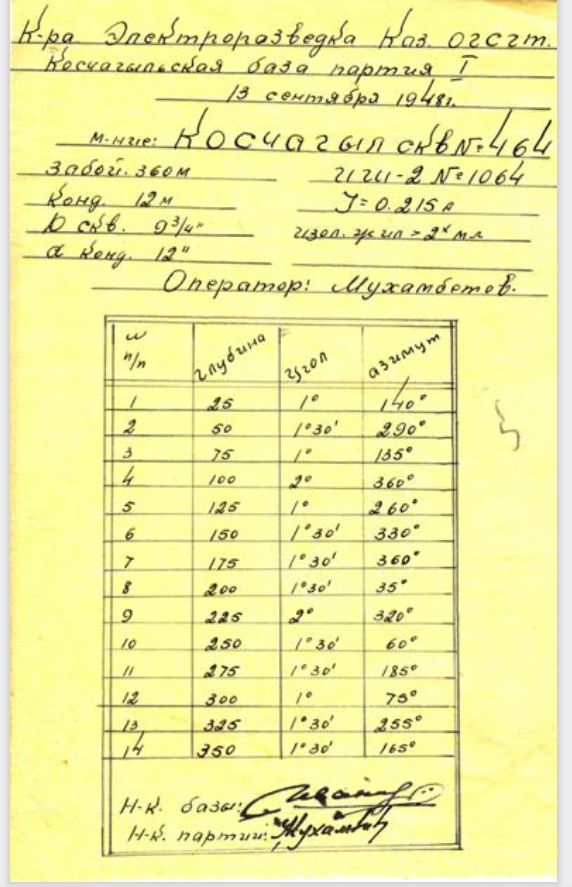Bordered: (106, 318, 461, 846)
